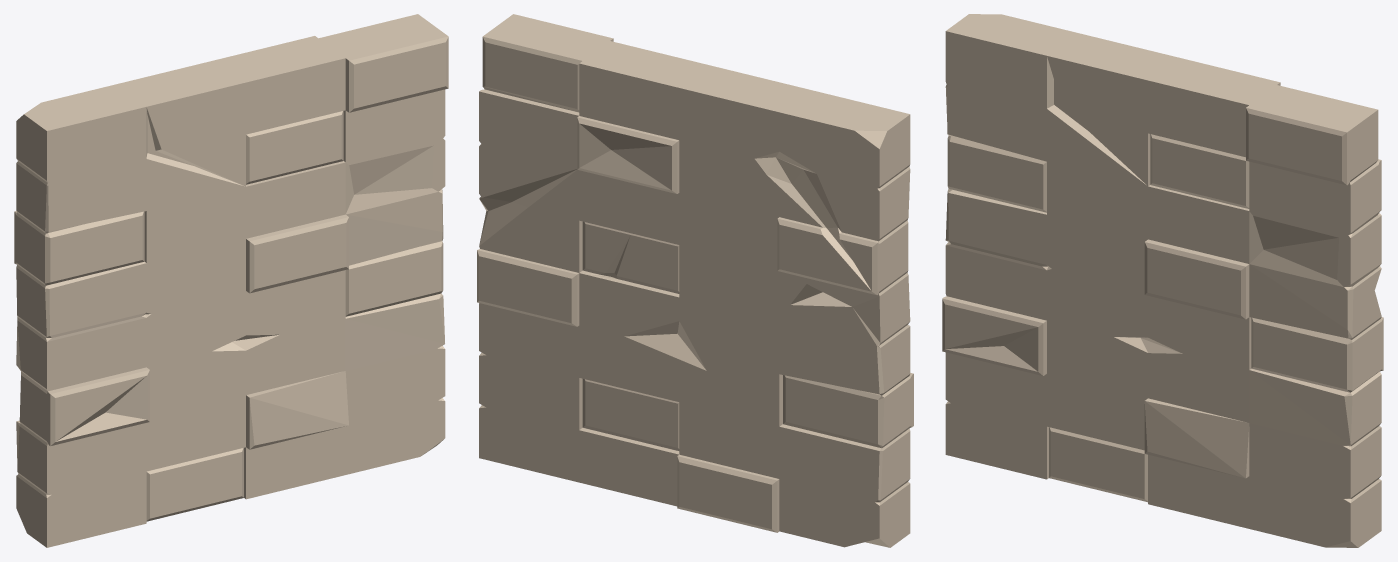
Rendered from Wall_001.fbx.
3 renders of one model, left to right at view 1: azimuth 30°, elevation 25°; view 2: azimuth 150°, elevation 25°; view 3: azimuth 330°, elevation 25°, orthographic.
Visible parts, largest first — view 1: Wall_001; view 2: Wall_001; view 3: Wall_001.
Part boxes in pixels (box(x1,y1,x2,y2)): Wall_001: box(14, 14, 448, 547); Wall_001: box(477, 14, 913, 547); Wall_001: box(942, 14, 1383, 547).
Size of the model in its own units: 3 by 3 by 0.5073.
